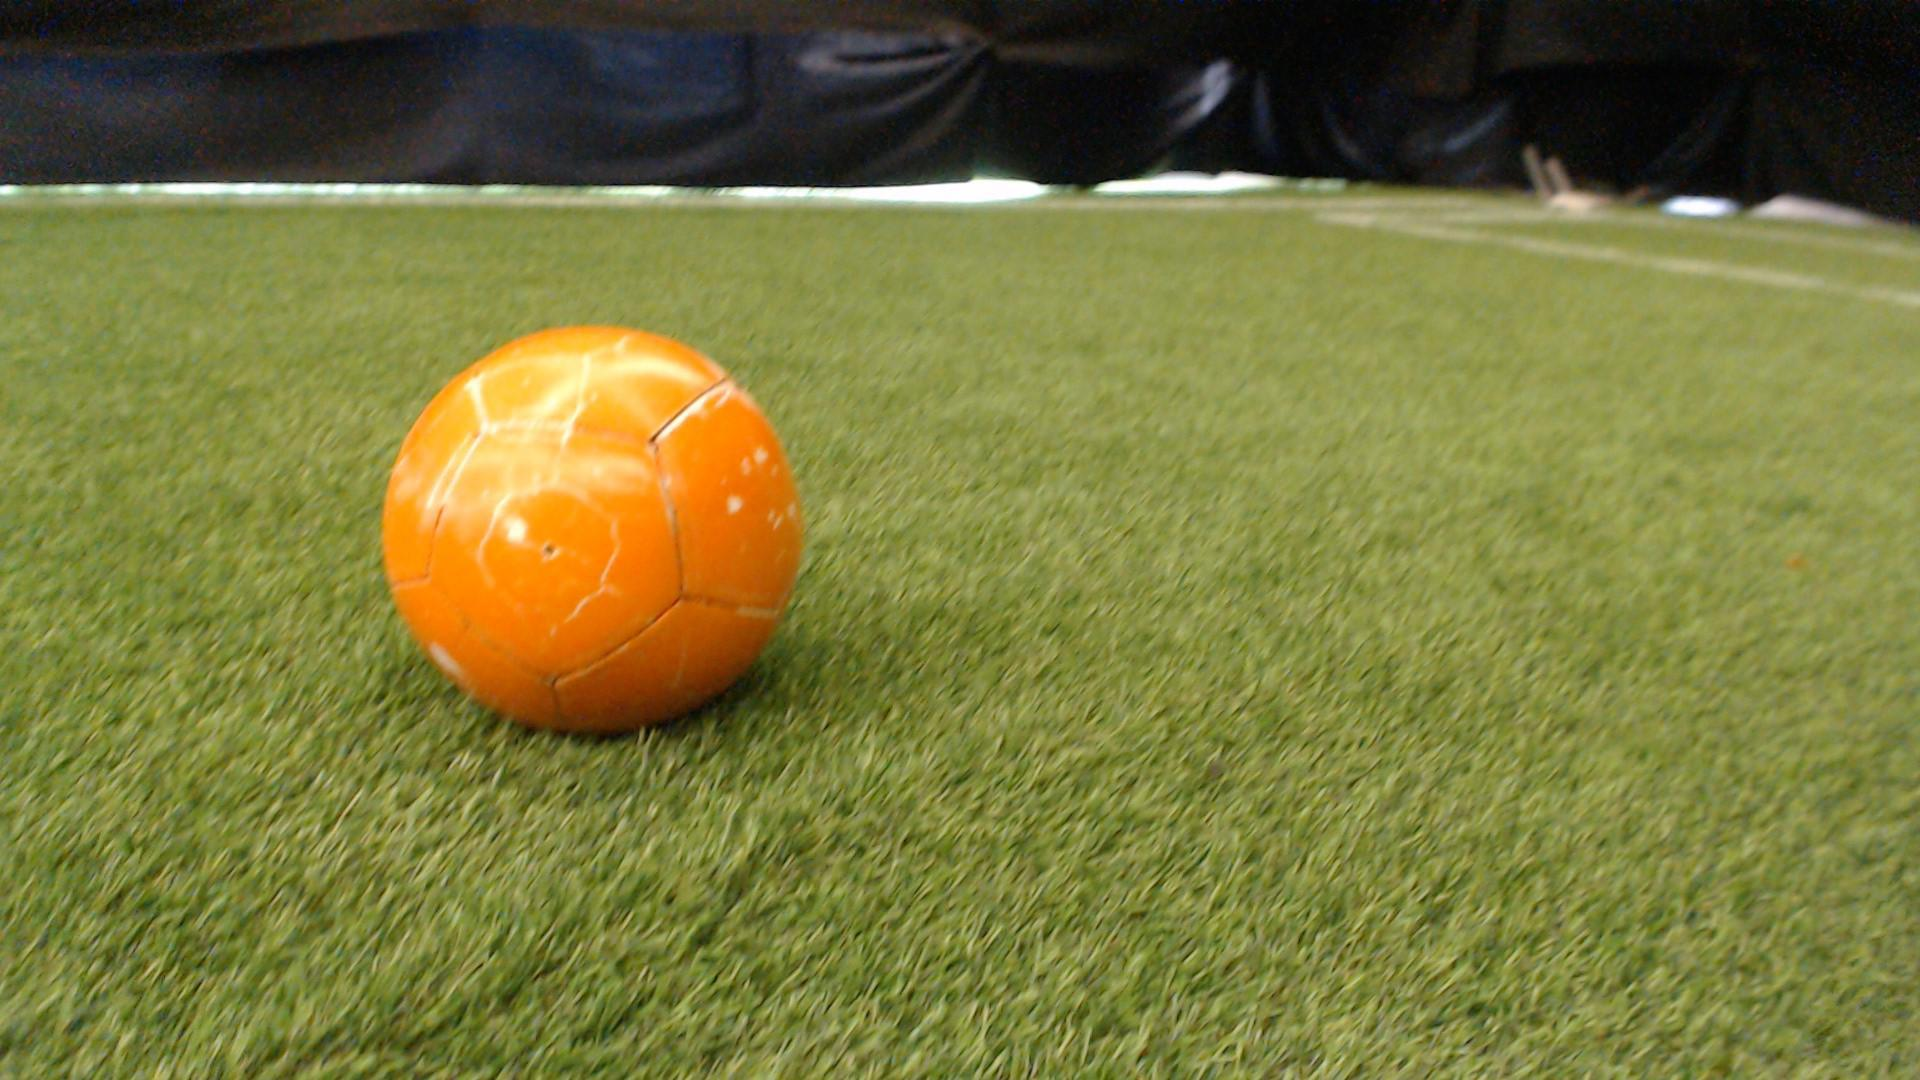bola: (342, 313, 840, 767)
